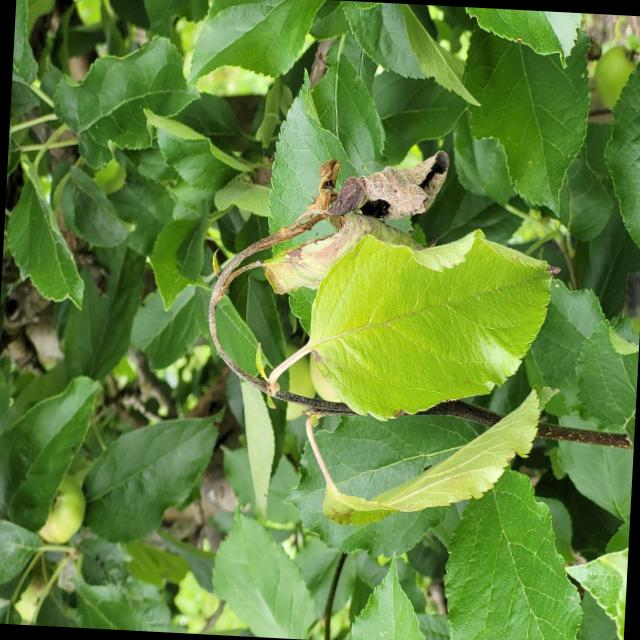-FireBlight-: (200, 149, 453, 384)
